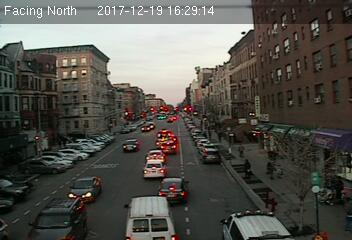car: (68, 177, 105, 203), (158, 177, 189, 202), (143, 159, 167, 180), (201, 147, 221, 165), (146, 149, 166, 162), (161, 140, 177, 154), (123, 139, 140, 151)
pedestrian: (240, 158, 252, 179), (236, 142, 246, 160), (266, 161, 274, 177)
police: (223, 207, 296, 240)
truck: (123, 196, 176, 240)
